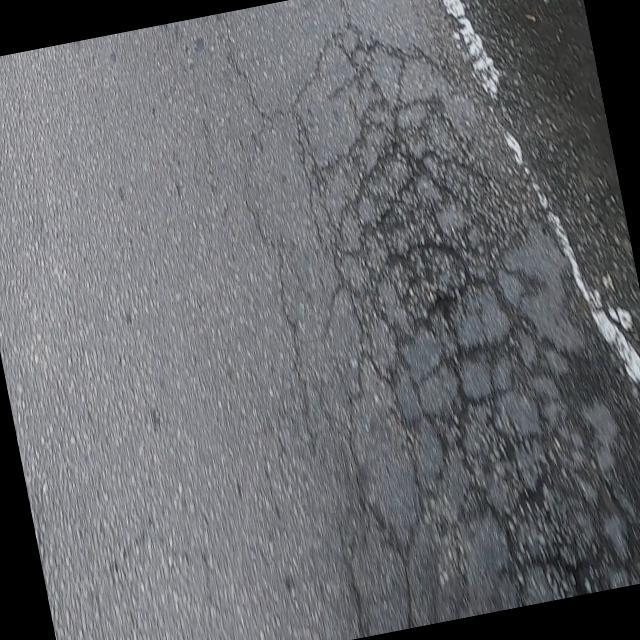Retak-Buaya: (290, 12, 637, 629)
